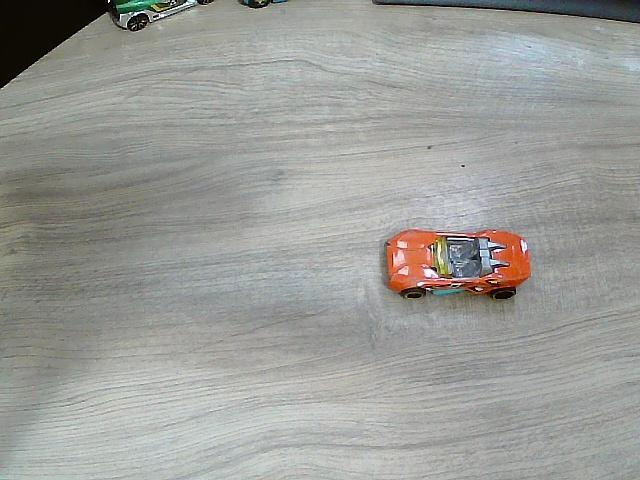Carro: (386, 230, 530, 298), (106, 0, 217, 32)
